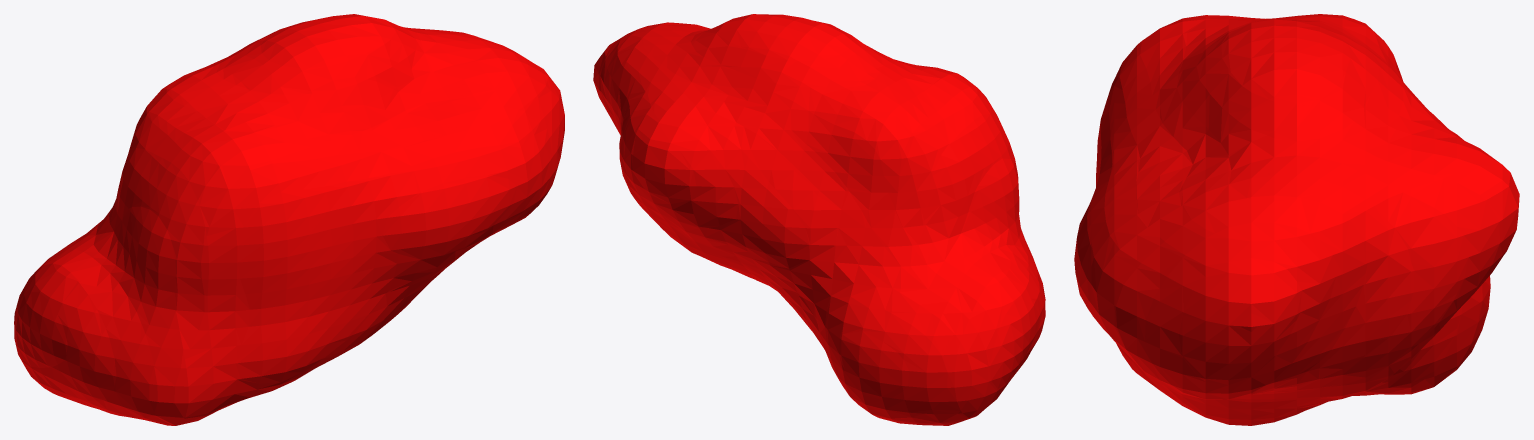
File: ybeD_coarse.dae
3 views of the same model, side by side, from view 1: azimuth 30°, elevation 25°; view 2: azimuth 150°, elevation 25°; view 3: azimuth 270°, elevation 25° (orthographic). The views are drawn at different scales.
Visible parts, largest first — view 1: ybeD; view 2: ybeD; view 3: ybeD.
Part boxes in pixels (x1,y1,x2,y2): ybeD: (14, 14, 564, 425); ybeD: (593, 14, 1045, 425); ybeD: (1074, 14, 1519, 425).
Bounding box in the file's own units: 47.13 × 31.87 × 28.58.
